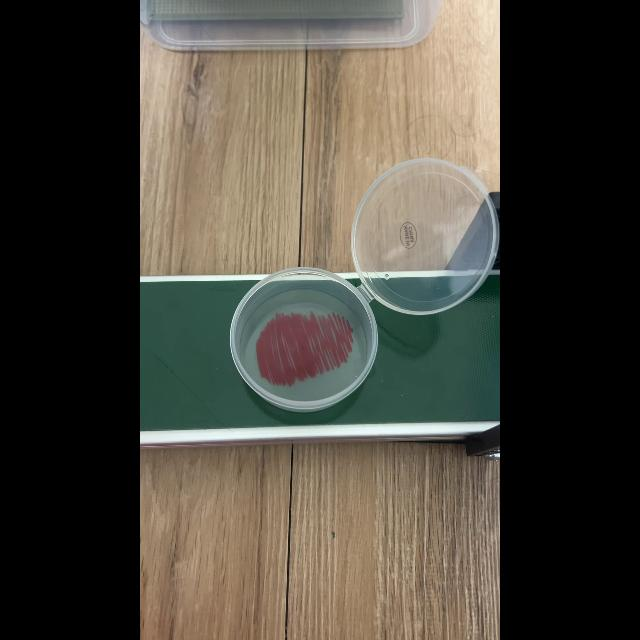dirty: (229, 274, 373, 406)
